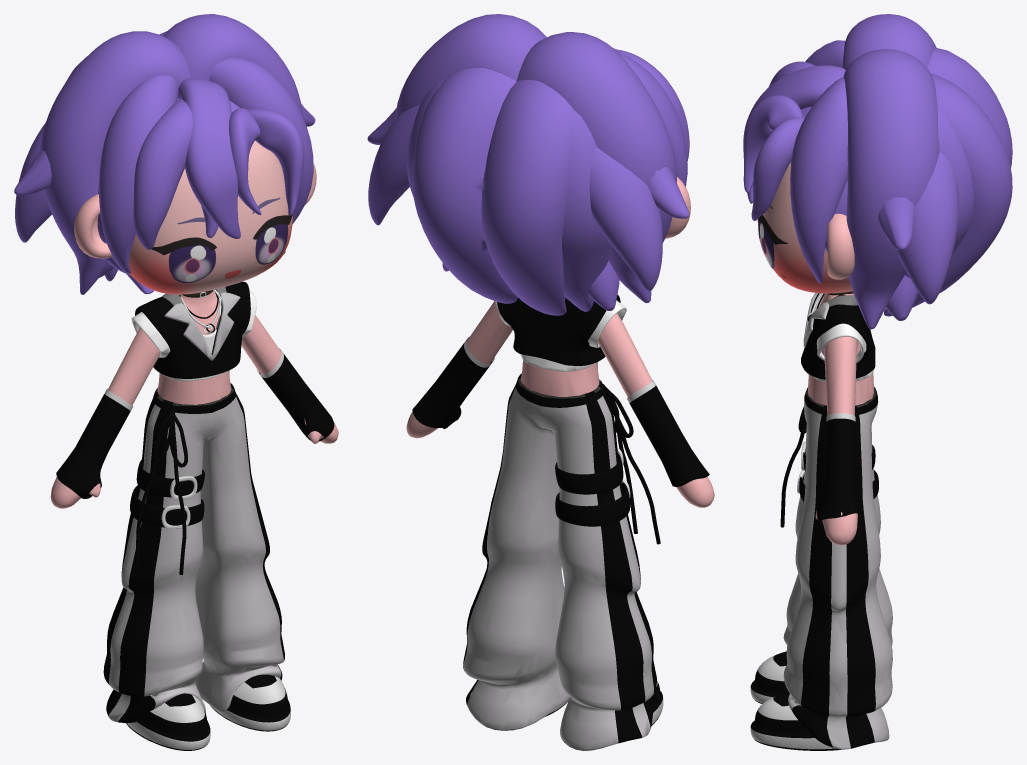
Rendered from matsuko.glb.
3 views of the same model, side by side, from view 1: azimuth 30°, elevation 25°; view 2: azimuth 150°, elevation 25°; view 3: azimuth 270°, elevation 25° (orthographic). The views are drawn at different scales.
Parts seen in each view (by area): view 1: 褲子.003, final頭髮, Nurbs路徑.044, 頭.006, 身體.002, Nurbs路徑.041, 手套, 鞋子.002, Nurbs路徑.040, 上衣, face.001, Nurbs路徑.037 (+8 smaller); view 2: final頭髮, 褲子.003, 身體.002, 手套, 上衣, Nurbs路徑.044, 褲子.005, 褲子.004, 上衣_內衣, Nurbs路徑.045, Nurbs路徑.040; view 3: final頭髮, 褲子.003, Nurbs路徑.044, 身體.002, 鞋子.002, 頭.006, 手套, Nurbs路徑.037, 上衣, Nurbs路徑.036, Nurbs路徑.041, 耳朵.002 (+4 smaller).
Boxes of the visible parts, <box> form: 褲子.003: <box>103,383,284,723</box>; final頭髮: <box>14,14,315,294</box>; Nurbs路徑.044: <box>99,57,313,273</box>; 頭.006: <box>129,140,292,294</box>; 身體.002: <box>50,290,338,531</box>; Nurbs路徑.041: <box>178,78,240,238</box>; 手套: <box>56,348,334,498</box>; 鞋子.002: <box>126,674,290,750</box>; Nurbs路徑.040: <box>133,99,192,249</box>; 上衣: <box>135,281,250,378</box>; face.001: <box>151,197,292,283</box>; Nurbs路徑.037: <box>248,109,304,215</box>; final頭髮: <box>367,14,689,315</box>; 褲子.003: <box>463,373,656,750</box>; 身體.002: <box>406,301,714,507</box>; 手套: <box>412,337,709,486</box>; 上衣: <box>497,294,620,365</box>; Nurbs路徑.044: <box>617,51,687,186</box>; 褲子.005: <box>555,483,630,526</box>; 褲子.004: <box>555,453,623,494</box>; 上衣_內衣: <box>495,300,626,371</box>; Nurbs路徑.045: <box>603,384,660,544</box>; Nurbs路徑.040: <box>615,49,689,161</box>; final頭髮: <box>842,14,1012,329</box>; 褲子.003: <box>783,386,892,749</box>; Nurbs路徑.044: <box>790,40,847,283</box>; 身體.002: <box>808,293,873,600</box>; 鞋子.002: <box>750,651,870,750</box>; 頭.006: <box>757,162,852,293</box>; 手套: <box>816,413,859,525</box>; Nurbs路徑.037: <box>751,117,804,220</box>; 上衣: <box>801,293,875,379</box>; Nurbs路徑.036: <box>743,95,803,192</box>; Nurbs路徑.041: <box>743,65,845,203</box>; 耳朵.002: <box>827,213,854,279</box>.
Size of the model in its own units: 5.43 by 11.51 by 4.13.
8 materials, 8 textured.
